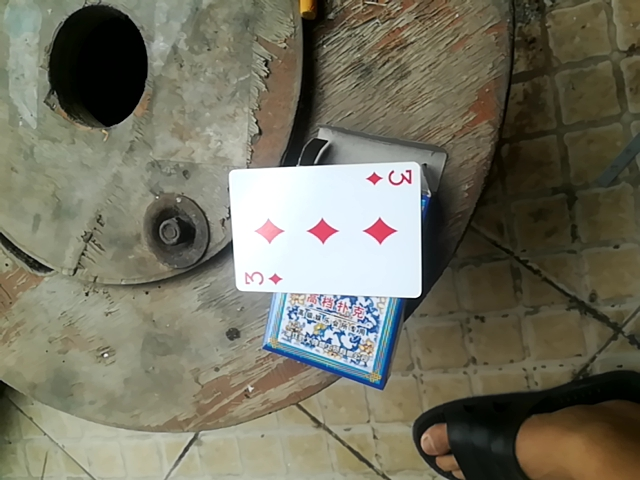fk 3: (225, 155, 427, 300)
